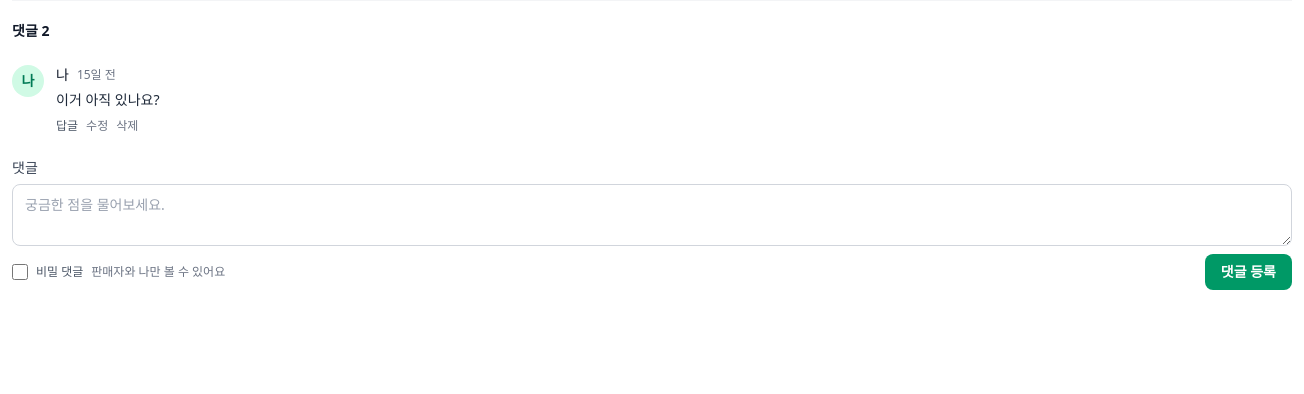
Test: CommentSection › 내 댓글은 원래 내용이 담긴 칸에서 고치고, 고친 결과가 그 자리에 들어간다
The image size is (1304, 394).
Click the button "수정". click: click(97, 126)
box: [86,118,108,134]
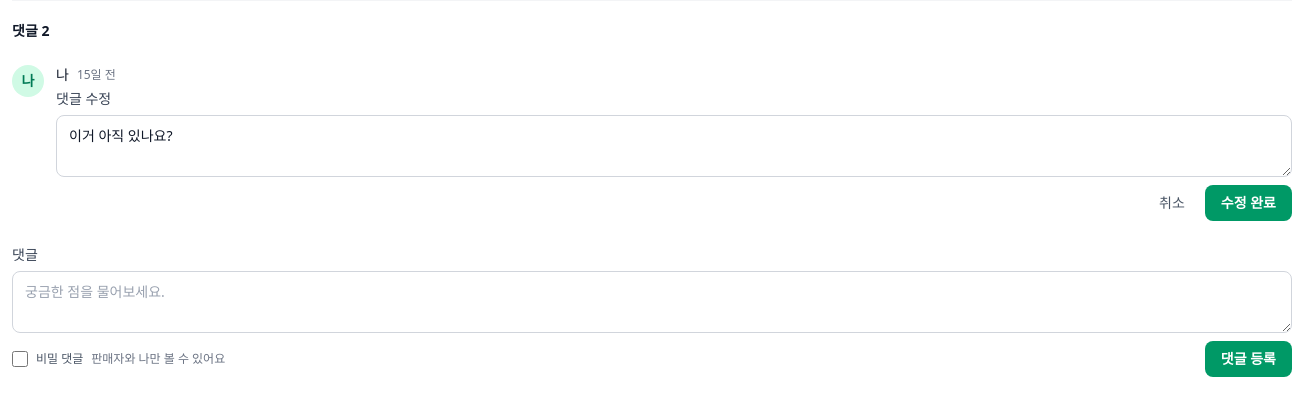
Expected: the text box labelled "댓글 수정" holds "이거 아직 있나요?"
Replace the text in the text box labelled "댓글 수정" with "아직 있나요? (수정)". click: (674, 146)
box: [56,115,1292,177]
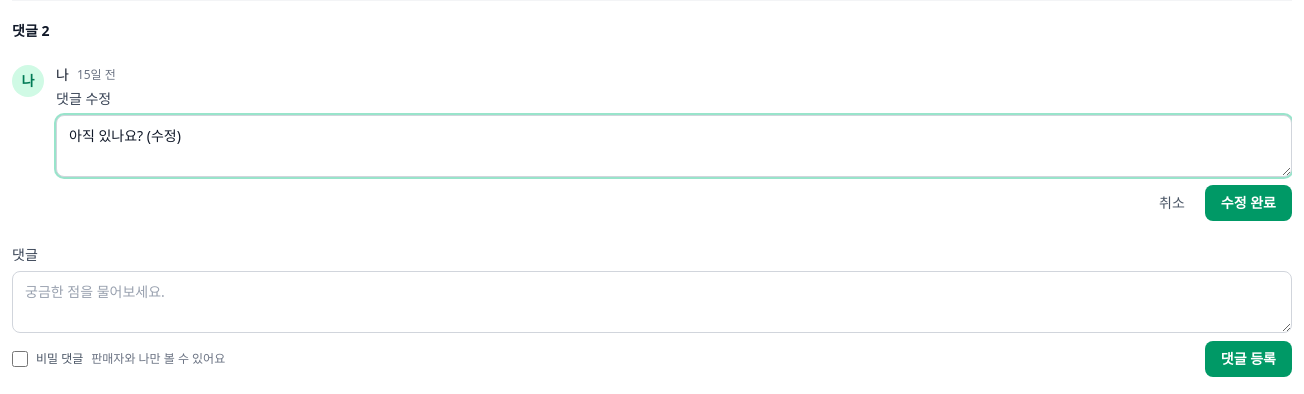
Click the button "수정 완료". click: click(1248, 203)
box: [1205,185,1292,221]
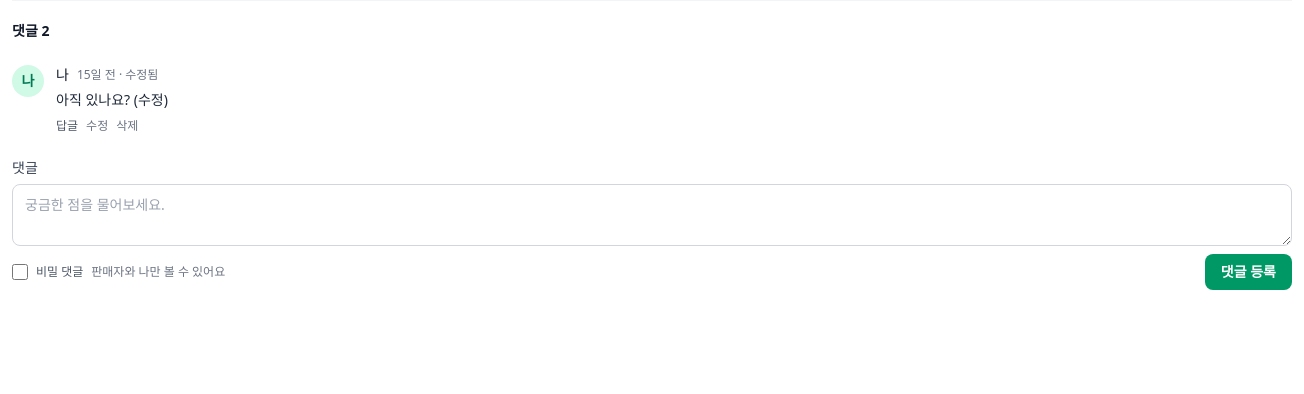
Expected: the text "아직 있나요? (수정)" is shown, [56,90,168,109]
Expected: the text "15일 전 · 수정됨" is shown, [77,67,158,83]
Expected: the label labelled "댓글 수정" is gone
